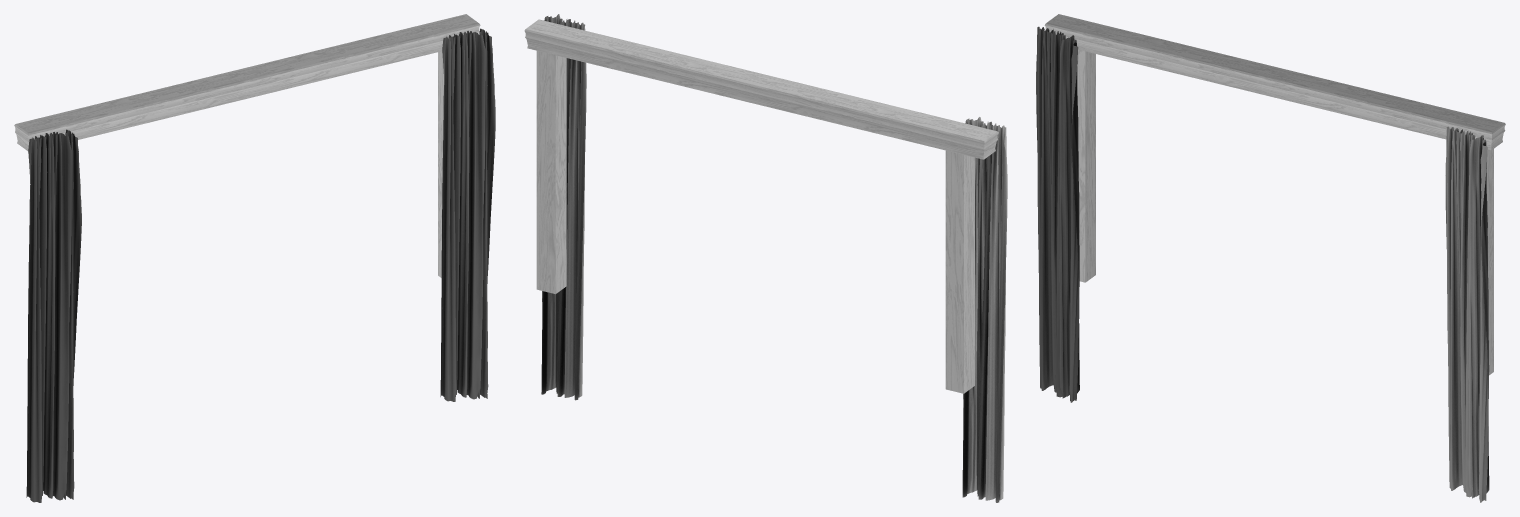
The model's file is Curtains_9567b735.obj.
The picture shows the model from 3 angles, left to right: view 1: azimuth 30°, elevation 25°; view 2: azimuth 150°, elevation 25°; view 3: azimuth 330°, elevation 25°; orthographic projection. The views are drawn at different scales.
Visible parts, largest first — view 1: FP222:Curtain1__1_67f17d49, FP222:Curtain1__d1cee76e, FP222:WindowTreatment1_c72afb49; view 2: FP222:WindowTreatment1_c72afb49, FP222:Curtain1__d1cee76e, FP222:Curtain1__1_67f17d49; view 3: FP222:WindowTreatment1_c72afb49, FP222:Curtain1__d1cee76e, FP222:Curtain1__1_67f17d49.
Boxes of the visible parts, x1,y1,x2,y2 form: FP222:Curtain1__1_67f17d49: (440, 28, 495, 401); FP222:Curtain1__d1cee76e: (26, 129, 81, 502); FP222:WindowTreatment1_c72afb49: (14, 14, 480, 277); FP222:WindowTreatment1_c72afb49: (524, 19, 998, 393); FP222:Curtain1__d1cee76e: (962, 117, 1007, 502); FP222:Curtain1__1_67f17d49: (541, 14, 586, 400); FP222:WindowTreatment1_c72afb49: (1044, 14, 1505, 375); FP222:Curtain1__d1cee76e: (1036, 26, 1079, 402); FP222:Curtain1__1_67f17d49: (1445, 126, 1489, 502).
Size of the model in its own units: 2.45 by 1.89 by 0.2577.
